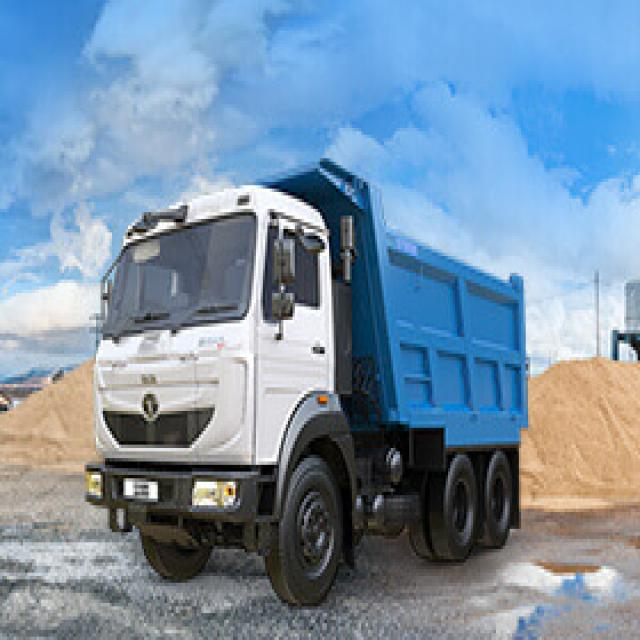dump_truck: (63, 120, 542, 616)
